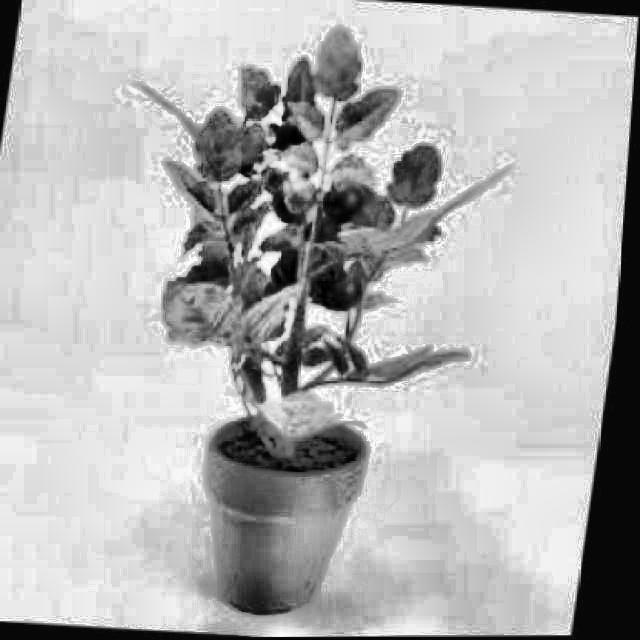plants: (58, 1, 530, 634)
